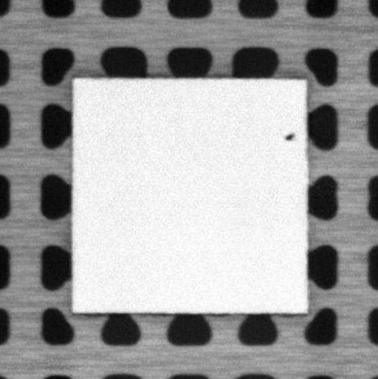DIE_INK: (284, 130, 298, 143)
